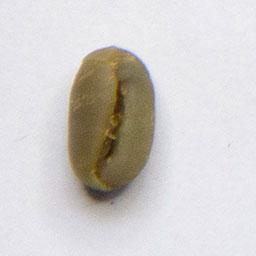peaberry: (65, 41, 158, 197)
